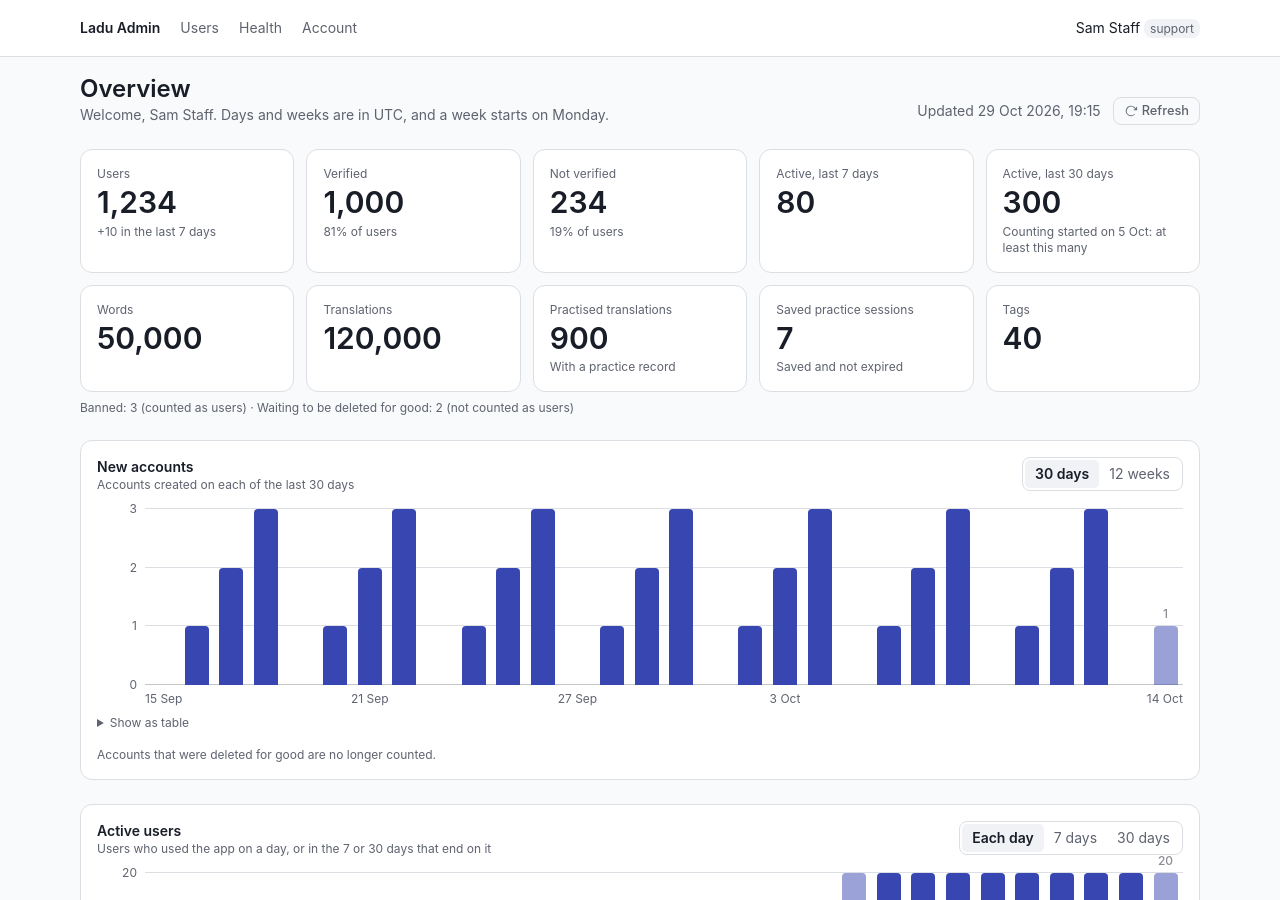
UsersPage › opens from the header link
Click the link "Users" at (200, 28), box [180, 18, 219, 38]
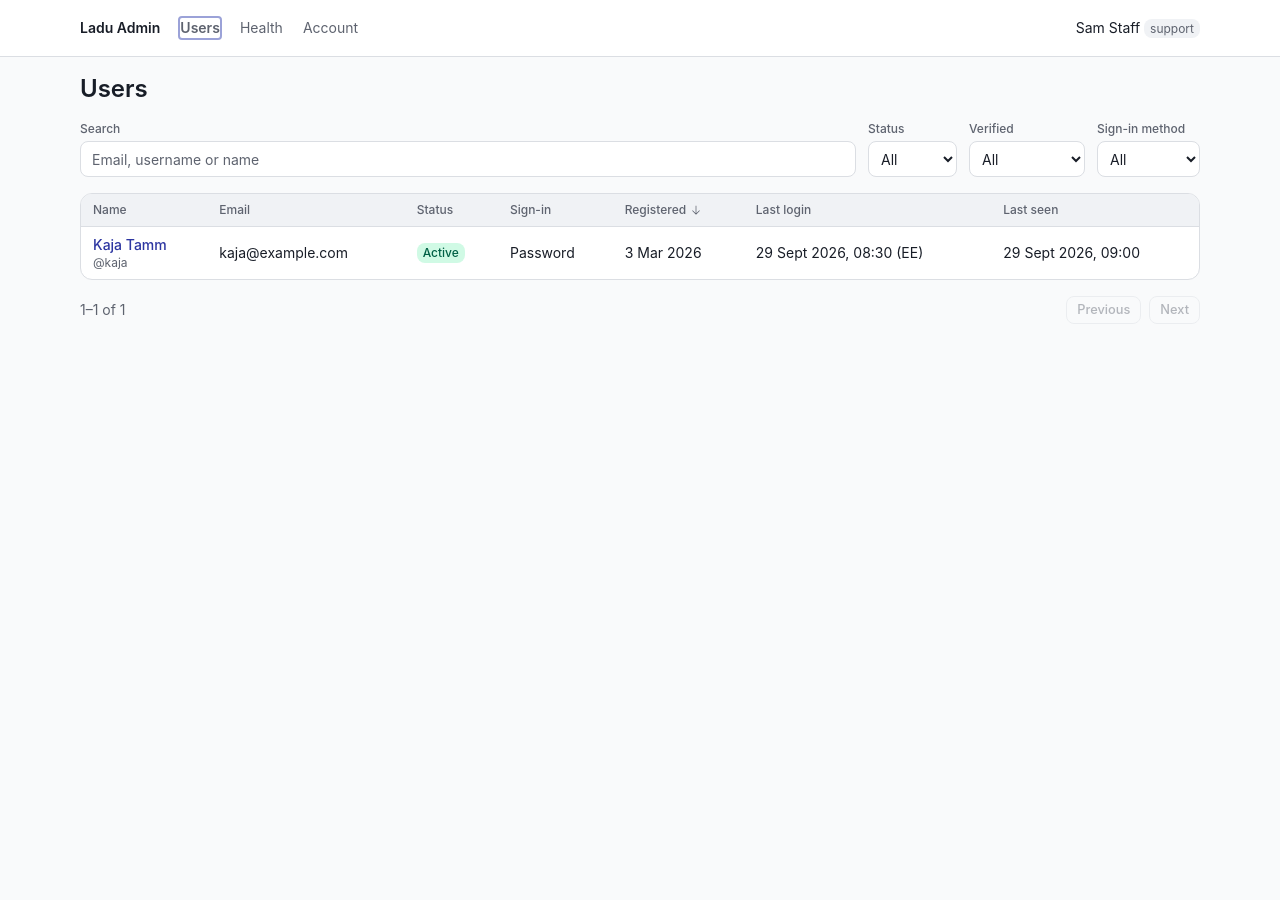
expect the link "Kaja Tamm" is shown: met, box [93, 236, 167, 253]
